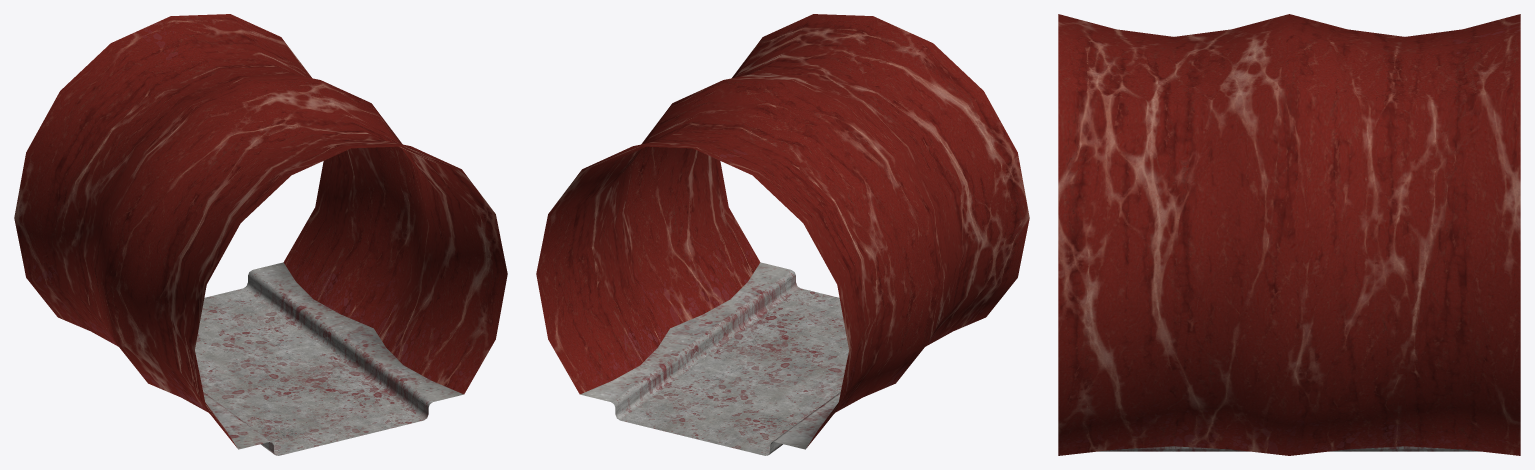
The model's file is TunnelBase.fbx.
3 renders of one model, left to right at view 1: azimuth 30°, elevation 25°; view 2: azimuth 150°, elevation 25°; view 3: azimuth 270°, elevation 25°, orthographic. The views are drawn at different scales.
Parts seen in each view (by area): view 1: polySurface32; view 2: polySurface32; view 3: polySurface32.
Boxes of the visible parts, x1,y1,x2,y2 form: polySurface32: (14, 14, 507, 455); polySurface32: (536, 14, 1029, 455); polySurface32: (1058, 14, 1520, 455).
Bounding box in the file's own units: 4 × 3.54 × 4.
